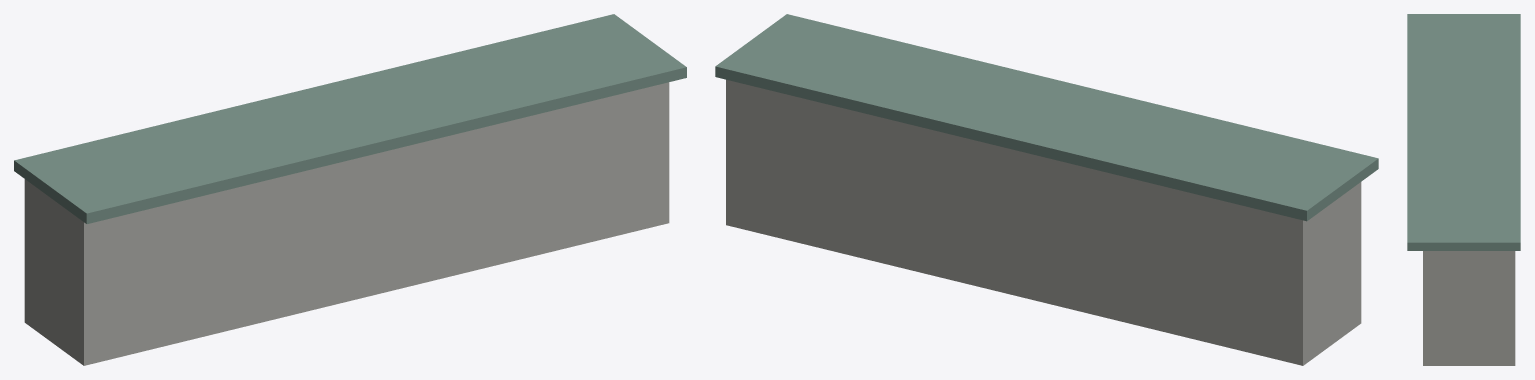
File: mov_f76f66c369.gltf
3 renders of one model, left to right at view 1: azimuth 30°, elevation 25°; view 2: azimuth 150°, elevation 25°; view 3: azimuth 270°, elevation 25°, orthographic. The views are drawn at different scales.
Parts seen in each view (by area): view 1: mov_f76f66c369; view 2: mov_f76f66c369; view 3: mov_f76f66c369.
Boxes of the visible parts, x1,y1,x2,y2 form: mov_f76f66c369: (14,14,686,365); mov_f76f66c369: (715,14,1378,365); mov_f76f66c369: (1407,14,1520,365).
Bounding box in the file's own units: 4.1 × 1.05 × 0.86.
